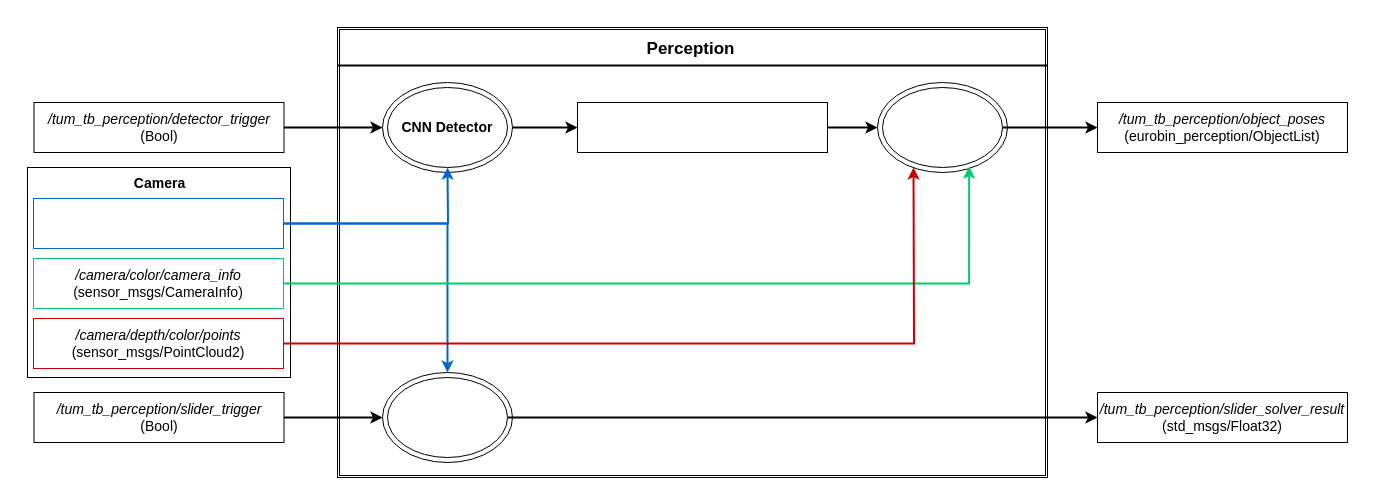
Image size: 1374x504. Some labels were removed from this diagram. The shapes that lost their labels are listed below. From the top down, each one's centre as x and y in pixels, then its label:
At [702,127]: "/tum_tb_perception/detection_result (eurobin_perception/BoundingBoxList)".
At [942,127]: "Pose Estimator".
At [158,223]: "/camera/color/image_raw (sensor_msgs/Image)".
At [447,417]: "Slider Task Solver".
